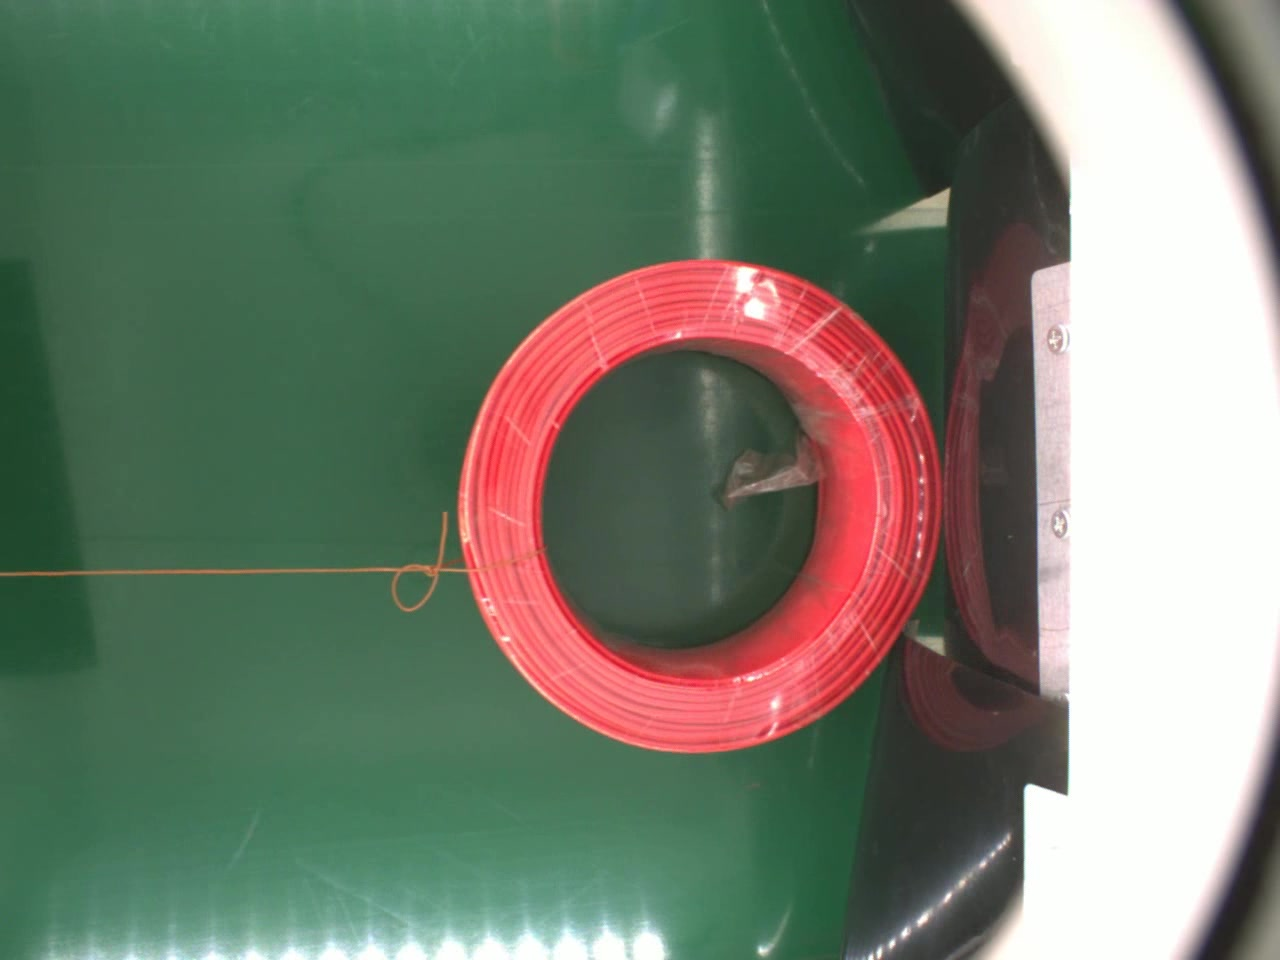red: (451, 251, 948, 761)
